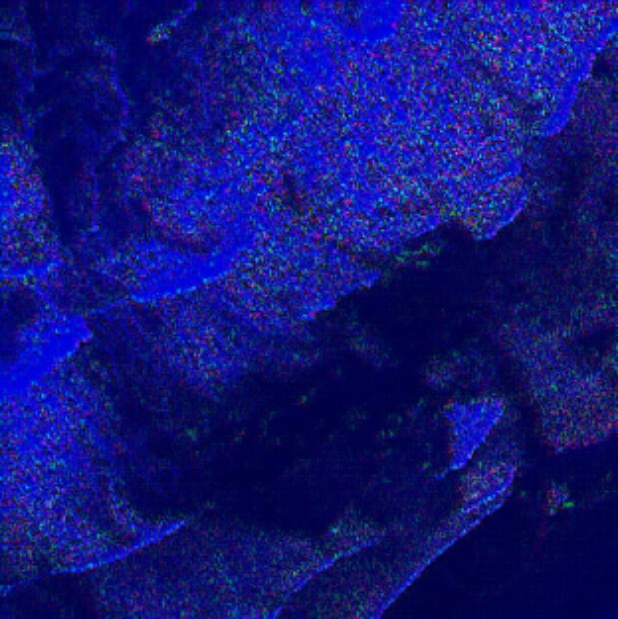rip_current: (60, 230, 440, 518)
